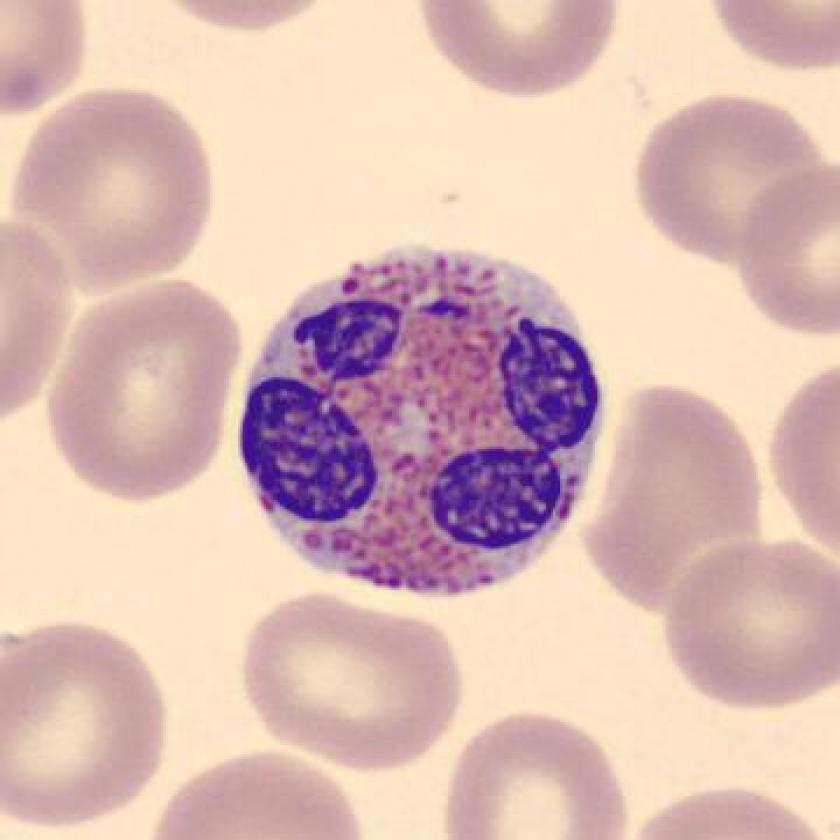eosinophil: (223, 235, 617, 612)
